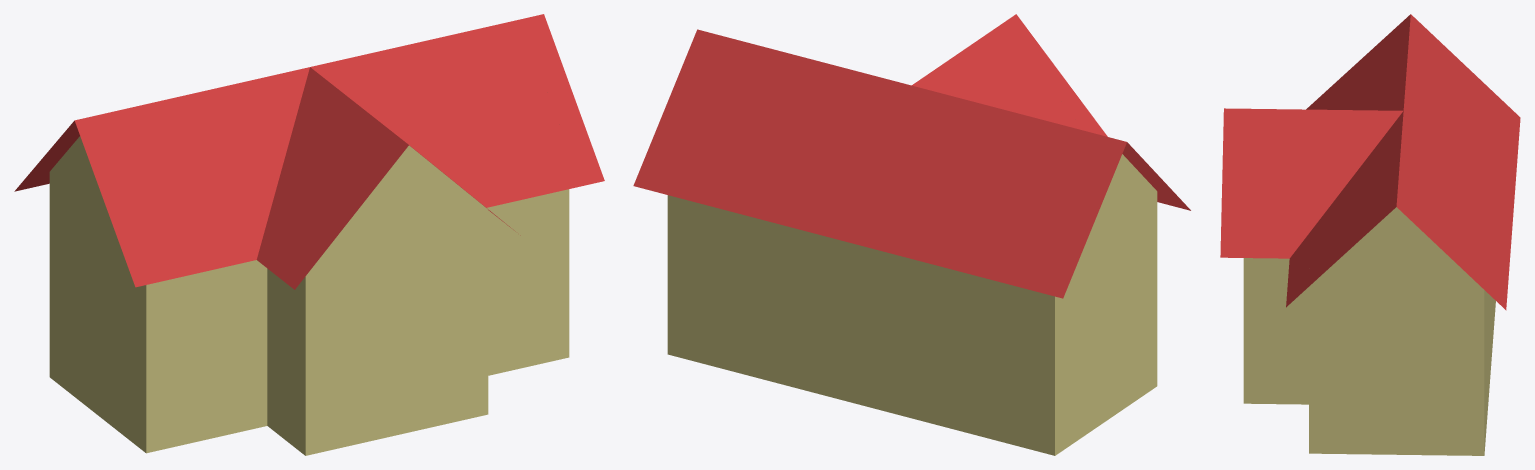
3 views of the same model, side by side, from view 1: azimuth 30°, elevation 25°; view 2: azimuth 150°, elevation 25°; view 3: azimuth 270°, elevation 25° (orthographic). The views are drawn at different scales.
Size of the model in its own units: 15.48 by 10.02 by 9.48.
